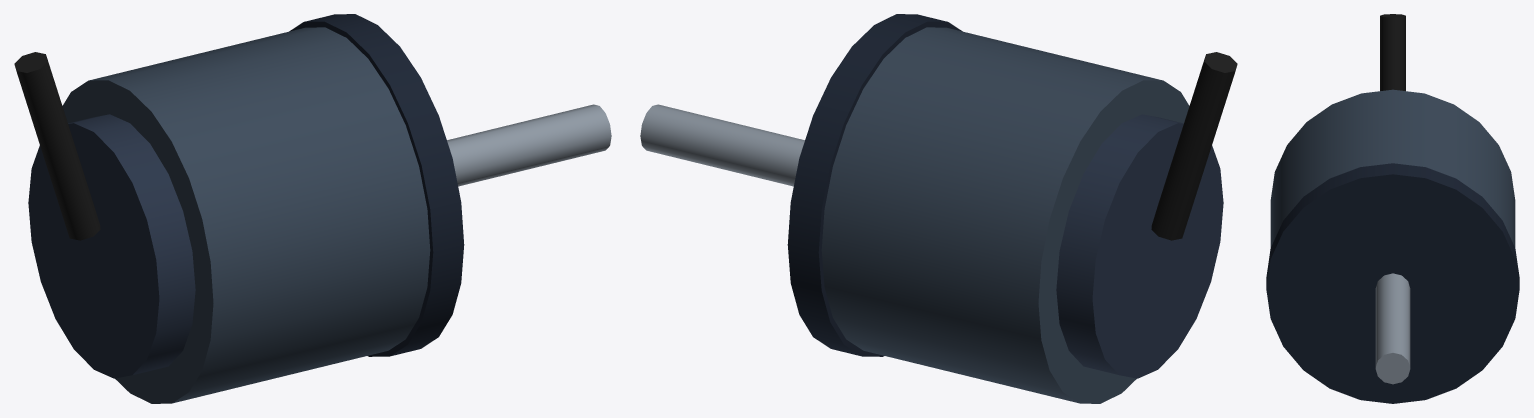
File: encoder.glb
3 views of the same model, side by side, from view 1: azimuth 30°, elevation 25°; view 2: azimuth 150°, elevation 25°; view 3: azimuth 270°, elevation 25° (orthographic). The views are drawn at different scales.
Size of the model in its own units: 1.13 by 0.676 by 0.58.
